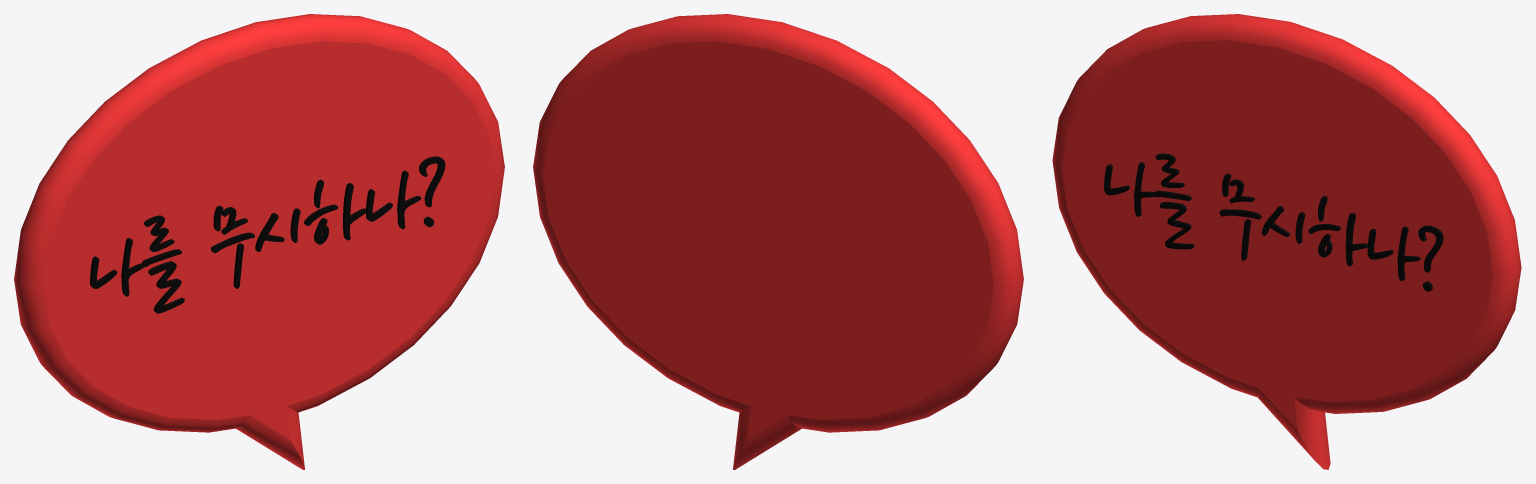
The model's file is #10_Obj_SpeechBalloon_03.FBX.
The picture shows the model from 3 angles, left to right: view 1: azimuth 30°, elevation 25°; view 2: azimuth 150°, elevation 25°; view 3: azimuth 330°, elevation 25°; orthographic projection. The views are drawn at different scales.
Parts seen in each view (by area): view 1: #10_Obj_SpeechBalloon_03, Text013; view 2: #10_Obj_SpeechBalloon_03; view 3: #10_Obj_SpeechBalloon_03, Text013.
Part boxes in pixels (x1=…): #10_Obj_SpeechBalloon_03: x1=14, y1=14, x2=504, y2=469; Text013: x1=90, y1=156, x2=445, y2=313; #10_Obj_SpeechBalloon_03: x1=533, y1=14, x2=1023, y2=469; #10_Obj_SpeechBalloon_03: x1=1052, y1=14, x2=1521, y2=469; Text013: x1=1104, y1=153, x2=1443, y2=291.
Bounding box in the file's own units: 1401 × 110 × 1259.
